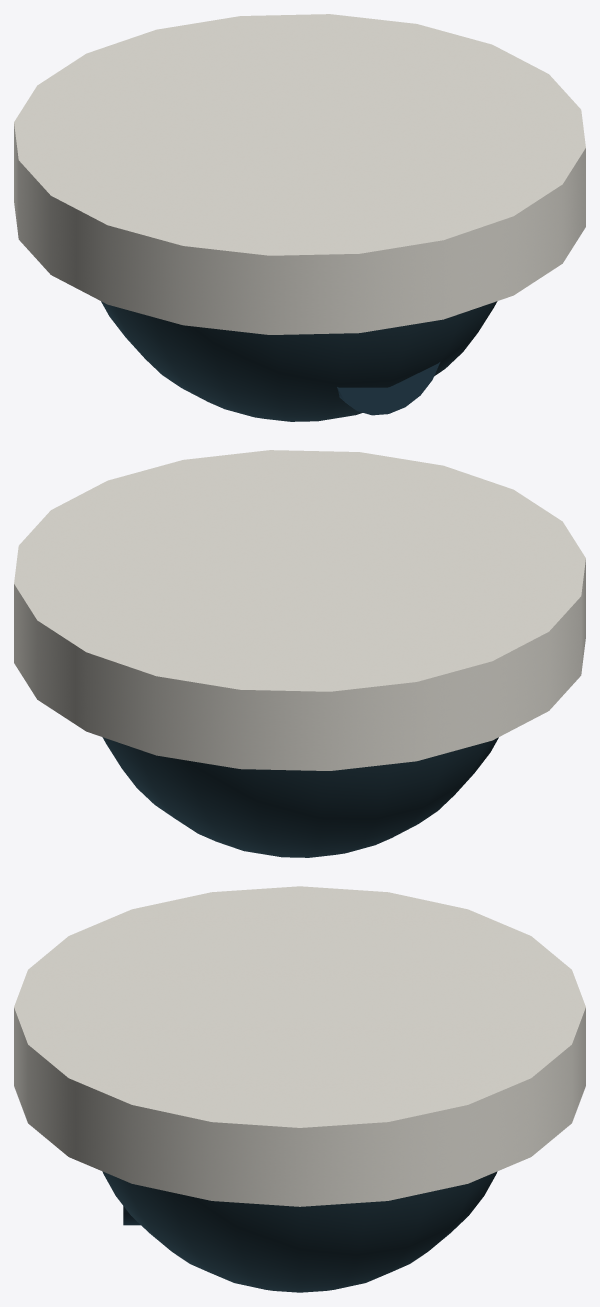
The model's file is cctv.glb.
The picture shows the model from 3 angles, top to bottom: view 1: azimuth 30°, elevation 25°; view 2: azimuth 150°, elevation 25°; view 3: azimuth 270°, elevation 25°; orthographic projection.
Visible parts, largest first — view 1: cctv; view 2: cctv; view 3: cctv.
Boxes of the visible parts, x1,y1,x2,y2 form: cctv: (14,14,585,421); cctv: (14,450,585,857); cctv: (14,886,585,1292).
Size of the model in its own units: 0.23 by 0.1175 by 0.23.
Materials: 3 (3 with a texture image).
